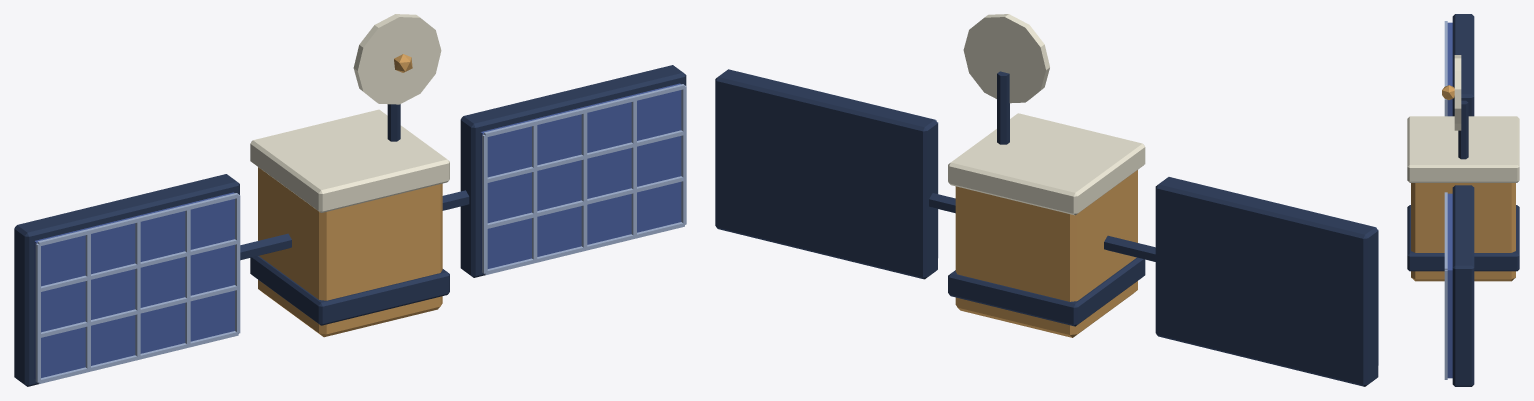
File: solar_satellite_unit_v2.glb
3 views of the same model, side by side, from view 1: azimuth 30°, elevation 25°; view 2: azimuth 150°, elevation 25°; view 3: azimuth 270°, elevation 25° (orthographic). The views are drawn at different scales.
Parts seen in each view (by area): view 1: solar_satellite_unit_v2__orbit-solar-cobalt, solar_satellite_unit_v2__orbit-server-navy, solar_satellite_unit_v2__orbit-ivory, solar_satellite_unit_v2__orbit-copper, solar_satellite_unit_v2__orbit-solar-grid; view 2: solar_satellite_unit_v2__orbit-server-navy, solar_satellite_unit_v2__orbit-ivory, solar_satellite_unit_v2__orbit-copper; view 3: solar_satellite_unit_v2__orbit-server-navy, solar_satellite_unit_v2__orbit-ivory, solar_satellite_unit_v2__orbit-copper, solar_satellite_unit_v2__orbit-solar-cobalt, solar_satellite_unit_v2__orbit-solar-grid.
Boxes of the visible parts, x1,y1,x2,y2 form: solar_satellite_unit_v2__orbit-solar-cobalt: (34, 83, 681, 379); solar_satellite_unit_v2__orbit-server-navy: (14, 65, 686, 386); solar_satellite_unit_v2__orbit-ivory: (250, 14, 449, 212); solar_satellite_unit_v2__orbit-copper: (258, 54, 442, 337); solar_satellite_unit_v2__orbit-solar-grid: (35, 84, 686, 383); solar_satellite_unit_v2__orbit-server-navy: (715, 69, 1378, 386); solar_satellite_unit_v2__orbit-ivory: (948, 14, 1145, 215); solar_satellite_unit_v2__orbit-copper: (955, 170, 1137, 337); solar_satellite_unit_v2__orbit-server-navy: (1407, 14, 1519, 386); solar_satellite_unit_v2__orbit-ivory: (1407, 55, 1519, 182); solar_satellite_unit_v2__orbit-copper: (1411, 85, 1515, 281); solar_satellite_unit_v2__orbit-solar-cobalt: (1447, 22, 1452, 378); solar_satellite_unit_v2__orbit-solar-grid: (1444, 21, 1447, 379).
Size of the model in its own units: 31.74 by 12.81 by 5.93.
